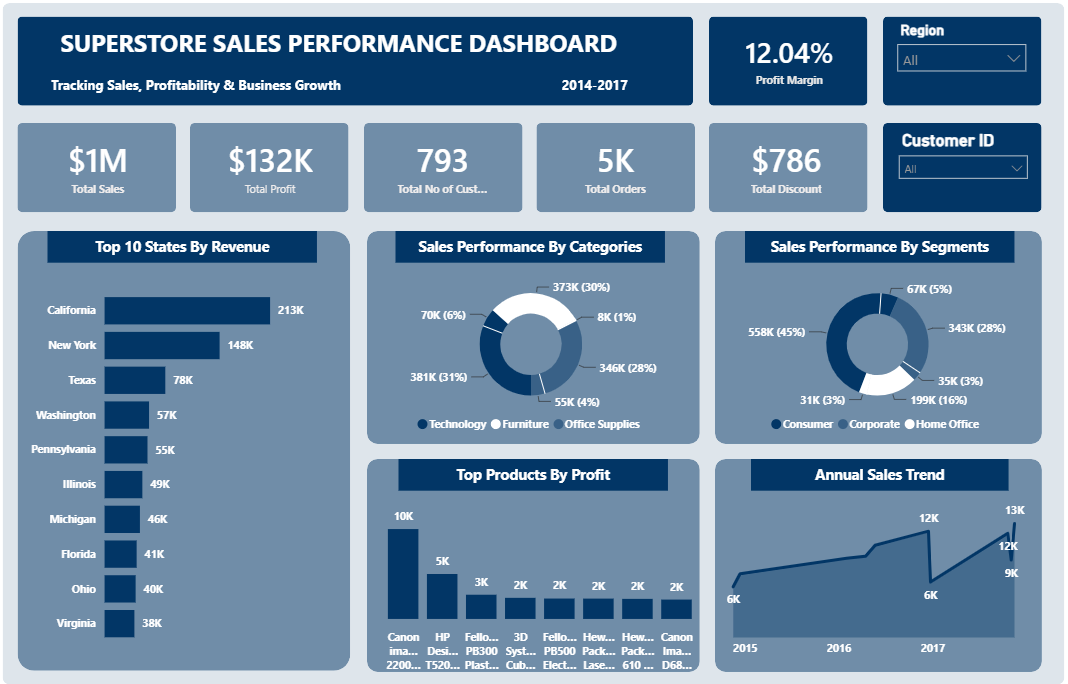

This screenshot's page, from the dashboard's own definition file:
{"tool":"powerbi","page":{"name":"SuperStore Dashboard","canvas":[1280,720],"ordinal":0},"visuals":[{"type":"shape","box":[128,18,1072,688],"z":0},{"type":"shape","box":[10,32,112,50],"z":1000},{"type":"shape","box":[144,32,682,90],"z":2000},{"type":"shape","box":[842,32,160,90],"z":3000},{"type":"shape","box":[668,140,160,90],"z":4000},{"type":"shape","box":[1018,32,160,90],"z":5000},{"type":"shape","box":[842,140,160,90],"z":6000},{"type":"shape","box":[144,140,160,90],"z":7000},{"type":"shape","box":[318,140,160,90],"z":8000},{"type":"shape","box":[494,140,160,90],"z":9000},{"type":"shape","box":[848,478,330,215],"z":10000},{"type":"shape","box":[496,248,336,215],"z":11000},{"type":"shape","box":[144,248,336,444],"z":12000},{"type":"shape","box":[848,248,330,215],"z":13000},{"type":"shape","box":[496,478,336,215],"z":14000},{"type":"cardVisual","fields":{"Data":["Sample - Superstore.Total Revenue Sold"]},"box":[150,140,150,88],"z":15000},{"type":"cardVisual","fields":{"Data":["Sample - Superstore.Total Profit"]},"box":[324,140,150,88],"z":16000},{"type":"cardVisual","fields":{"Data":["Sample - Superstore.Total No. Customers"]},"box":[498,140,150,88],"z":17000},{"type":"cardVisual","fields":{"Data":["Sample - Superstore.Total Orders"]},"box":[673,140,150,88],"z":18000},{"type":"cardVisual","fields":{"Data":["Sample - Superstore.Total Discount"]},"box":[845,140,150,88],"z":19000},{"type":"slicer","fields":{"Values":["Sample - Superstore.Region"]},"box":[1022,32,150,88],"z":20000},{"type":"textbox","box":[156,36,624,56],"z":21000},{"type":"textbox","box":[173,86,400,32],"z":22000},{"type":"textbox","box":[646,86,160,32],"z":23000},{"type":"shape","box":[1018,140,160,90],"z":24000},{"type":"cardVisual","fields":{"Data":["Sample - Superstore.Profit Margin"]},"box":[848,32,150,88],"z":25000},{"type":"slicer","fields":{"Values":["Sample - Superstore.Customer ID"]},"box":[1024,141,150,88],"z":26000},{"type":"clusteredColumnChart","fields":{"Category":["Sample - Superstore.Product Name"],"Y":["Sum(Sample - Superstore.Profit)"]},"box":[494,490,352,210],"z":27000},{"type":"clusteredBarChart","fields":{"Category":["Sample - Superstore.State"],"Y":["Sum(Sample - Superstore.Sales)"]},"box":[151,288,320,390],"z":28000},{"type":"donutChart","fields":{"Y":["Sum(Sample - Superstore.Sales)","Sum(Sample - Superstore.Profit)"],"Category":["Sample - Superstore.Category"]},"box":[512,290,300,170],"z":29000},{"type":"donutChart","fields":{"Category":["Sample - Superstore.Segment"],"Y":["Sum(Sample - Superstore.Sales)","Sum(Sample - Superstore.Profit)"]},"box":[862,290,300,170],"z":30000},{"type":"lineChart","fields":{"Category":["Sample - Superstore.Order Date"],"Y":["Sum(Sample - Superstore.Sales)"]},"box":[848,510,320,176],"z":31000},{"type":"textbox","box":[884,478,260,32],"z":32000},{"type":"textbox","box":[528,478,272,32],"z":33000},{"type":"textbox","box":[526,248,272,32],"z":34000},{"type":"textbox","box":[878,248,272,32],"z":35000},{"type":"textbox","box":[174,248,272,32],"z":36000},{"type":"actionButton","box":[16,35,100,40],"z":37000},{"type":"shape","box":[10,140,112,50],"z":38000},{"type":"shape","box":[10,256,112,50],"z":39000},{"type":"actionButton","box":[12,144,109,40],"z":40000},{"type":"actionButton","box":[10,260,110,40],"z":41000}]}

Visuals, with their boxes on the page's 1280x720 design canvas (x1, y1, x2, y2). These are canvas units, not pixel positions in the 1068x684 screenshot, which may show the page scaled, cropped or inside an application window:
shape: locate(128, 18, 1200, 706)
shape: locate(10, 32, 122, 82)
shape: locate(144, 32, 826, 122)
shape: locate(842, 32, 1002, 122)
shape: locate(668, 140, 828, 230)
shape: locate(1018, 32, 1178, 122)
shape: locate(842, 140, 1002, 230)
shape: locate(144, 140, 304, 230)
shape: locate(318, 140, 478, 230)
shape: locate(494, 140, 654, 230)
shape: locate(848, 478, 1178, 693)
shape: locate(496, 248, 832, 463)
shape: locate(144, 248, 480, 692)
shape: locate(848, 248, 1178, 463)
shape: locate(496, 478, 832, 693)
cardVisual - Sample - Superstore.Total Revenue Sold: locate(150, 140, 300, 228)
cardVisual - Sample - Superstore.Total Profit: locate(324, 140, 474, 228)
cardVisual - Sample - Superstore.Total No. Customers: locate(498, 140, 648, 228)
cardVisual - Sample - Superstore.Total Orders: locate(673, 140, 823, 228)
cardVisual - Sample - Superstore.Total Discount: locate(845, 140, 995, 228)
slicer - Sample - Superstore.Region: locate(1022, 32, 1172, 120)
textbox: locate(156, 36, 780, 92)
textbox: locate(173, 86, 573, 118)
textbox: locate(646, 86, 806, 118)
shape: locate(1018, 140, 1178, 230)
cardVisual - Sample - Superstore.Profit Margin: locate(848, 32, 998, 120)
slicer - Sample - Superstore.Customer ID: locate(1024, 141, 1174, 229)
clusteredColumnChart - Sample - Superstore.Product Name x Sum(Sample - Superstore.Profit): locate(494, 490, 846, 700)
clusteredBarChart - Sample - Superstore.State x Sum(Sample - Superstore.Sales): locate(151, 288, 471, 678)
donutChart - Sum(Sample - Superstore.Sales) x Sum(Sample - Superstore.Profit): locate(512, 290, 812, 460)
donutChart - Sample - Superstore.Segment x Sum(Sample - Superstore.Sales): locate(862, 290, 1162, 460)
lineChart - Sample - Superstore.Order Date x Sum(Sample - Superstore.Sales): locate(848, 510, 1168, 686)
textbox: locate(884, 478, 1144, 510)
textbox: locate(528, 478, 800, 510)
textbox: locate(526, 248, 798, 280)
textbox: locate(878, 248, 1150, 280)
textbox: locate(174, 248, 446, 280)
actionButton: locate(16, 35, 116, 75)
shape: locate(10, 140, 122, 190)
shape: locate(10, 256, 122, 306)
actionButton: locate(12, 144, 121, 184)
actionButton: locate(10, 260, 120, 300)
